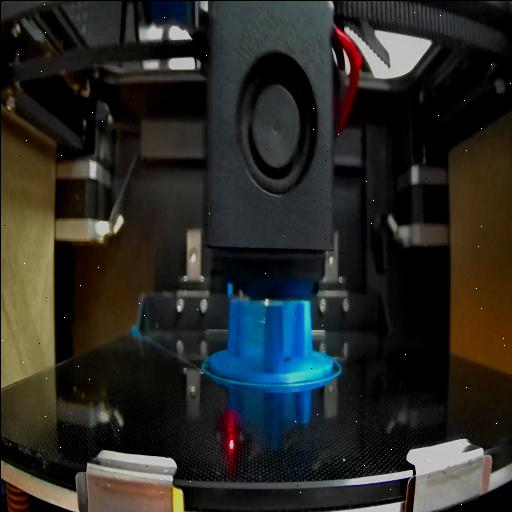stringing: (236, 296, 264, 368), (280, 299, 298, 364)
